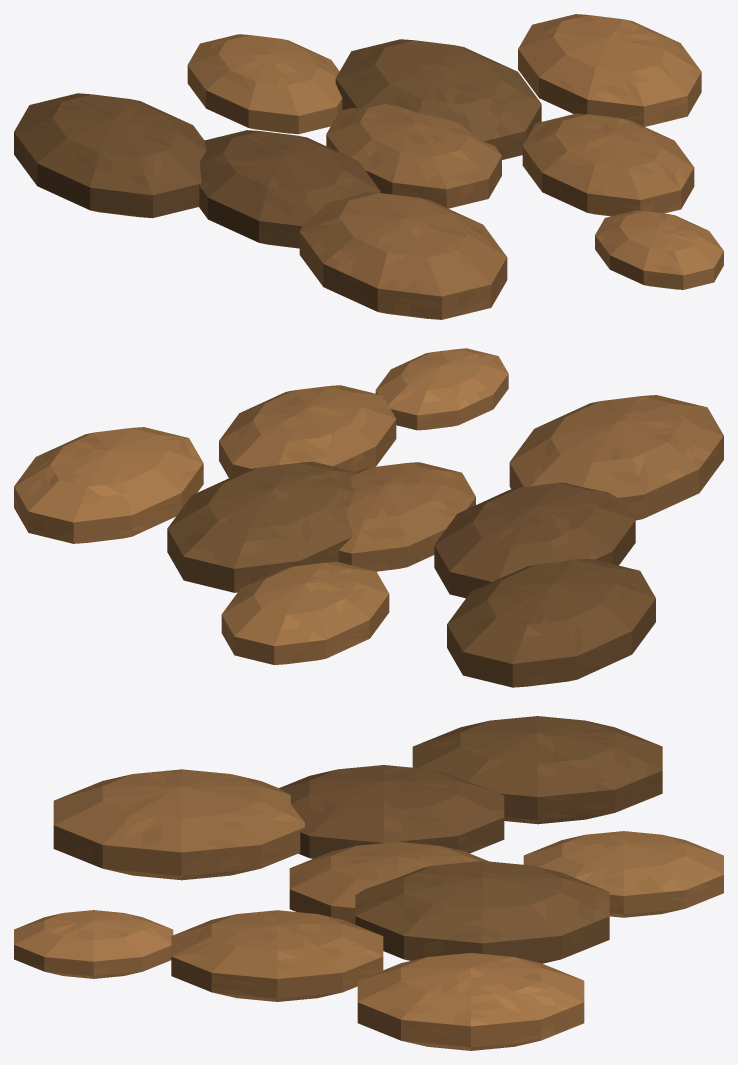
Rendered from seed_sugar_beet.glb.
3 views of the same model, one above another, from view 1: azimuth 30°, elevation 25°; view 2: azimuth 150°, elevation 25°; view 3: azimuth 270°, elevation 25° (orthographic). The views are drawn at different scales.
Parts seen in each view (by area): view 1: block_grain 5, block_grain 7, block_grain 6, block_grain 1, block_grain 2, block_grain 3, block_grain 0, block_grain 4, block_grain 8; view 2: block_grain 7, block_grain 1, block_grain 5, block_grain 6, block_grain 2, block_grain 4, block_grain 3, block_grain 0, block_grain 8; view 3: block_grain 5, block_grain 1, block_grain 7, block_grain 6, block_grain 3, block_grain 2, block_grain 4, block_grain 8, block_grain 0.
Boxes of the visible parts, x1,y1,x2,y2 form: block_grain 5: (299,192,507,319); block_grain 7: (14,93,206,218); block_grain 6: (518,14,701,126); block_grain 1: (335,39,541,159); block_grain 2: (199,130,380,248); block_grain 3: (522,113,694,216); block_grain 0: (326,103,501,208); block_grain 4: (187,34,342,134); block_grain 8: (595,210,723,289); block_grain 7: (447,558,655,687); block_grain 1: (167,461,357,592); block_grain 5: (509,395,723,520); block_grain 6: (14,427,203,543); block_grain 2: (434,482,635,598); block_grain 4: (221,561,389,664); block_grain 3: (219,385,396,477); block_grain 0: (338,462,475,571); block_grain 8: (375,348,508,430); block_grain 5: (53,769,304,880); block_grain 1: (355,861,609,963); block_grain 7: (412,716,662,824); block_grain 6: (357,953,584,1050); block_grain 3: (171,910,383,1001); block_grain 2: (279,765,504,858); block_grain 4: (523,831,723,917); block_grain 8: (14,910,173,978); block_grain 0: (289,842,489,924).
Bounding box in the file's own units: 0.0175 × 0.00207 × 0.0174.
1 material, 1 textured.
